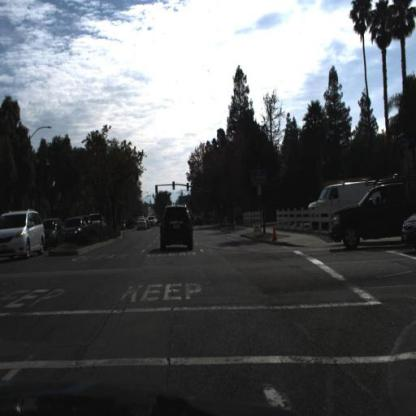car: (330, 170, 405, 250), (307, 180, 386, 231), (1, 209, 48, 267), (307, 180, 364, 223), (160, 203, 196, 252), (40, 216, 70, 252), (59, 215, 90, 247), (63, 215, 90, 247), (40, 218, 61, 254), (85, 211, 110, 241), (28, 217, 57, 238), (137, 216, 151, 232)
trafficLight-Green: (187, 182, 191, 195)
